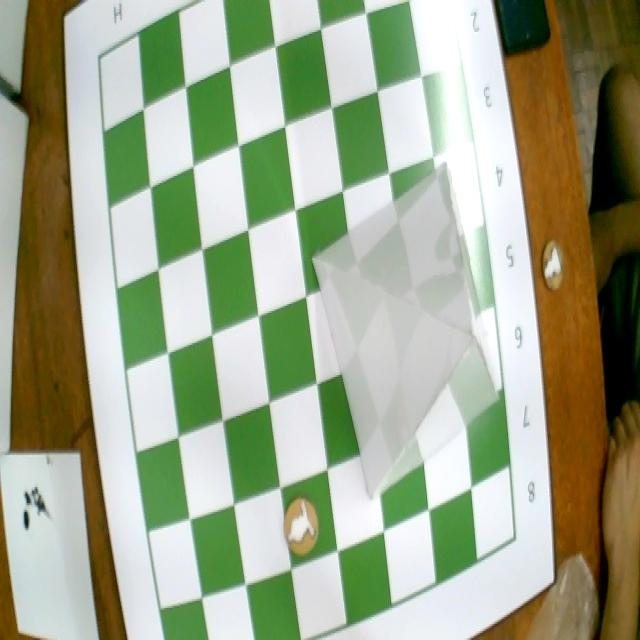chess-pieces: (282, 493, 323, 557)
